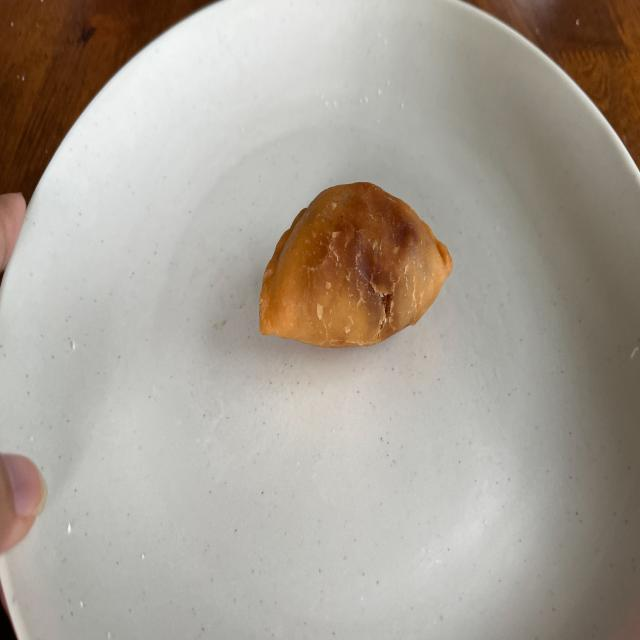karipap: (260, 182, 452, 347)
